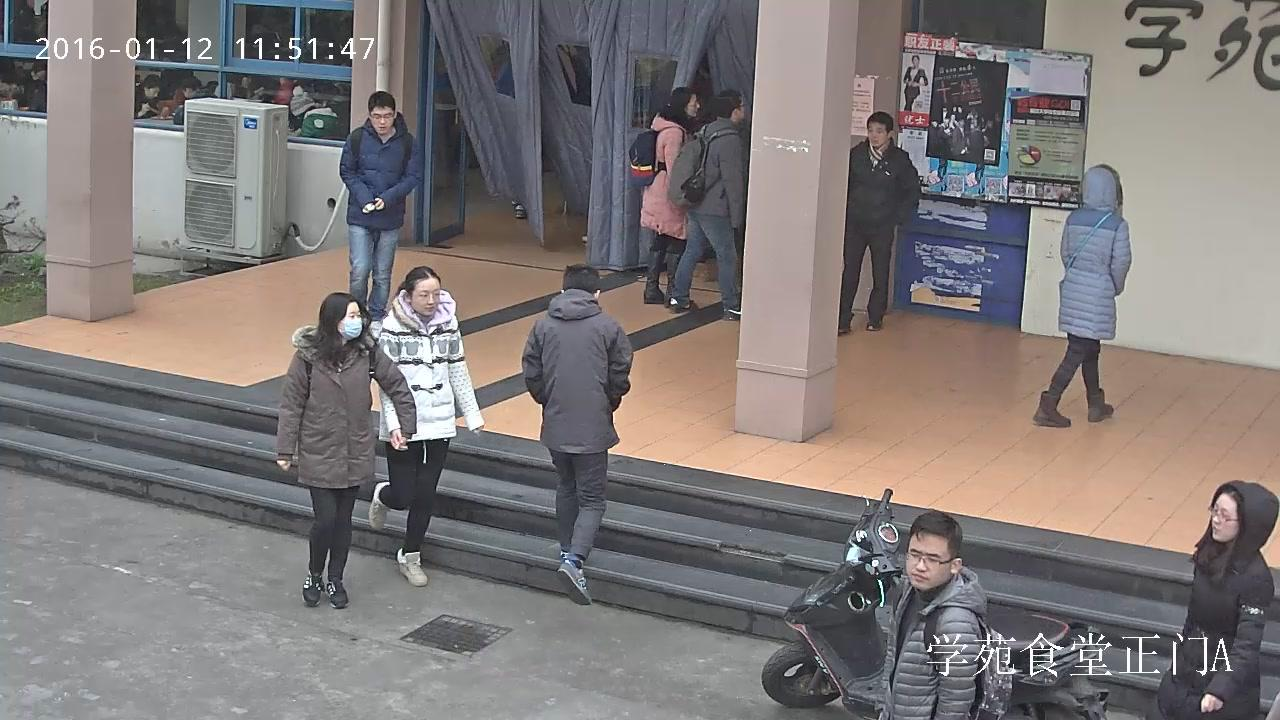person: (275, 292, 417, 610), (520, 261, 634, 604), (369, 265, 485, 589), (1156, 478, 1280, 720), (877, 509, 1013, 720), (1031, 163, 1132, 427), (654, 88, 751, 320), (339, 90, 424, 343), (838, 110, 920, 336), (627, 86, 702, 310), (287, 85, 348, 139), (172, 74, 217, 125), (133, 74, 166, 119), (902, 54, 927, 111)
